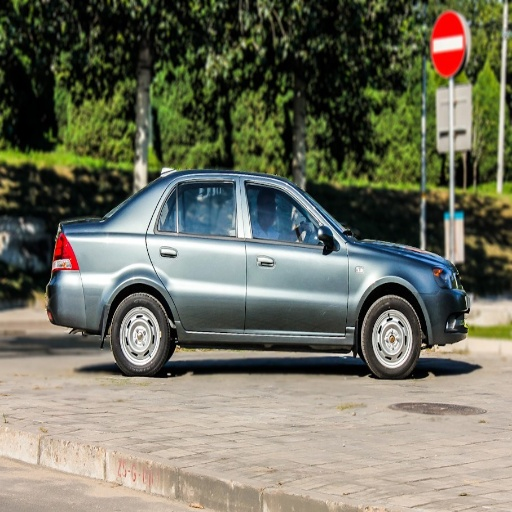back_right_door: (148, 177, 247, 334)
front_right_door: (243, 178, 344, 337)
